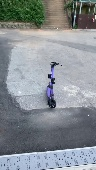beam: (45, 59, 61, 110)
